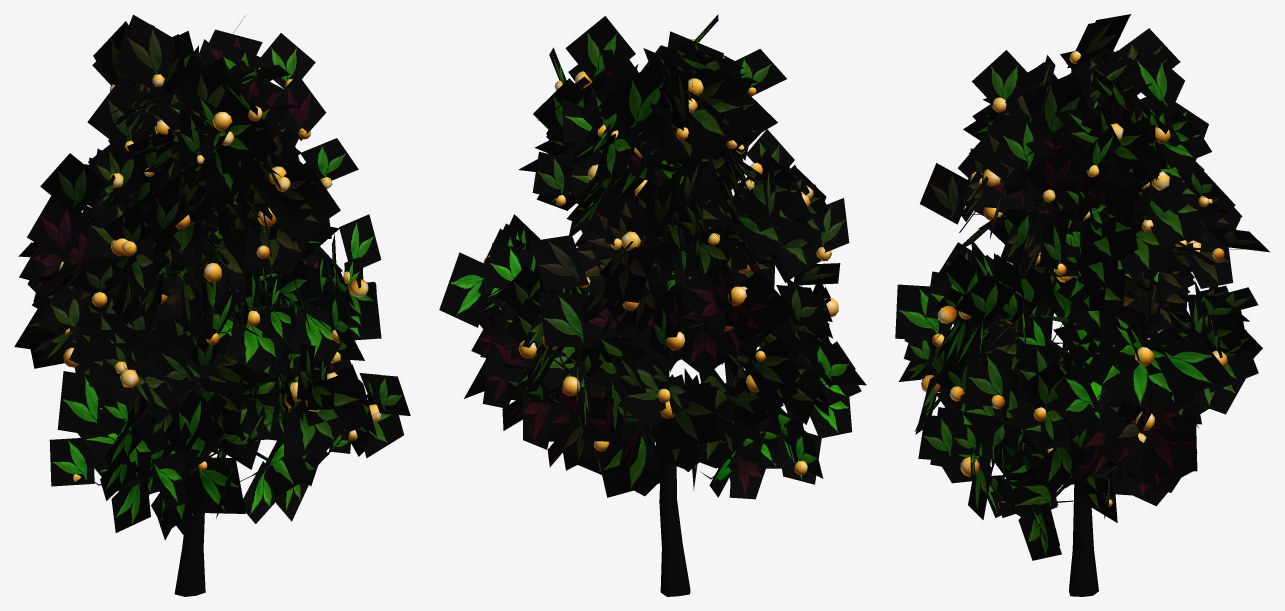
Rendered from tangerine_tree_fruit.glb.
3 renders of one model, left to right at view 1: azimuth 30°, elevation 25°; view 2: azimuth 150°, elevation 25°; view 3: azimuth 270°, elevation 25°, orthographic.
Visible parts, largest first — view 1: tree, quat; view 2: tree, quat; view 3: tree, quat.
Part boxes in pixels (<box>): tree: <box>14,14,410,596</box>; quat: <box>59,74,381,481</box>; tree: <box>439,14,866,596</box>; quat: <box>483,39,838,475</box>; tree: <box>895,14,1269,596</box>; quat: <box>921,51,1227,507</box>.
Bounding box in the file's own units: 1.65 × 2.61 × 1.58.
3 materials, 3 textured.
